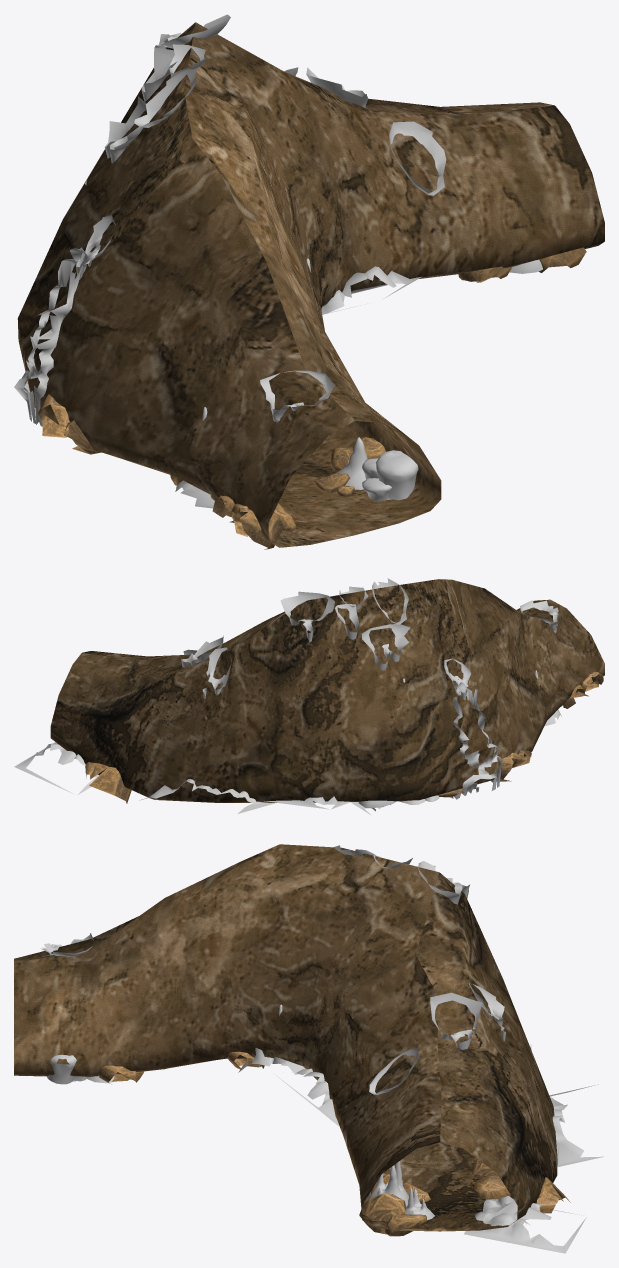
File: cave_90deg.dae
3 renders of one model, top to bottom at view 1: azimuth 30°, elevation 25°; view 2: azimuth 150°, elevation 25°; view 3: azimuth 270°, elevation 25°, orthographic. The views are drawn at different scales.
Parts seen in each view (by area): view 1: Cave_90Deg, Stalagmite, Rocks, Tower, RockPile; view 2: Cave_90Deg, Stalagmite, Rocks, RockPile, Tower; view 3: Cave_90Deg, Stalagmite, RockPile, Rocks.
Part boxes in pixels (x1,y1,x2,y2): Cave_90Deg: [17, 22, 604, 547]; Stalagmite: [76, 14, 542, 508]; Rocks: [38, 247, 586, 549]; Tower: [14, 247, 88, 426]; RockPile: [321, 266, 421, 314]; Cave_90Deg: [50, 579, 604, 802]; Stalagmite: [181, 578, 561, 811]; Rocks: [85, 671, 603, 803]; RockPile: [14, 742, 381, 815]; Tower: [450, 682, 502, 799]; Cave_90Deg: [14, 844, 557, 1231]; Stalagmite: [40, 845, 505, 1220]; RockPile: [276, 1044, 604, 1253]; Rocks: [98, 1051, 570, 1236].
Bounding box in the file's own units: 663 × 694 × 332.
